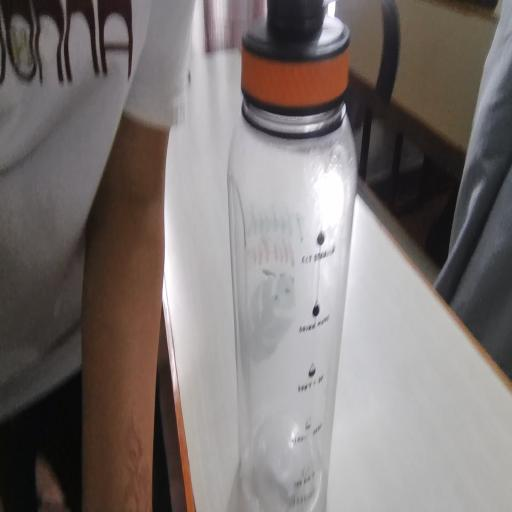Bottle: (209, 0, 376, 512)
